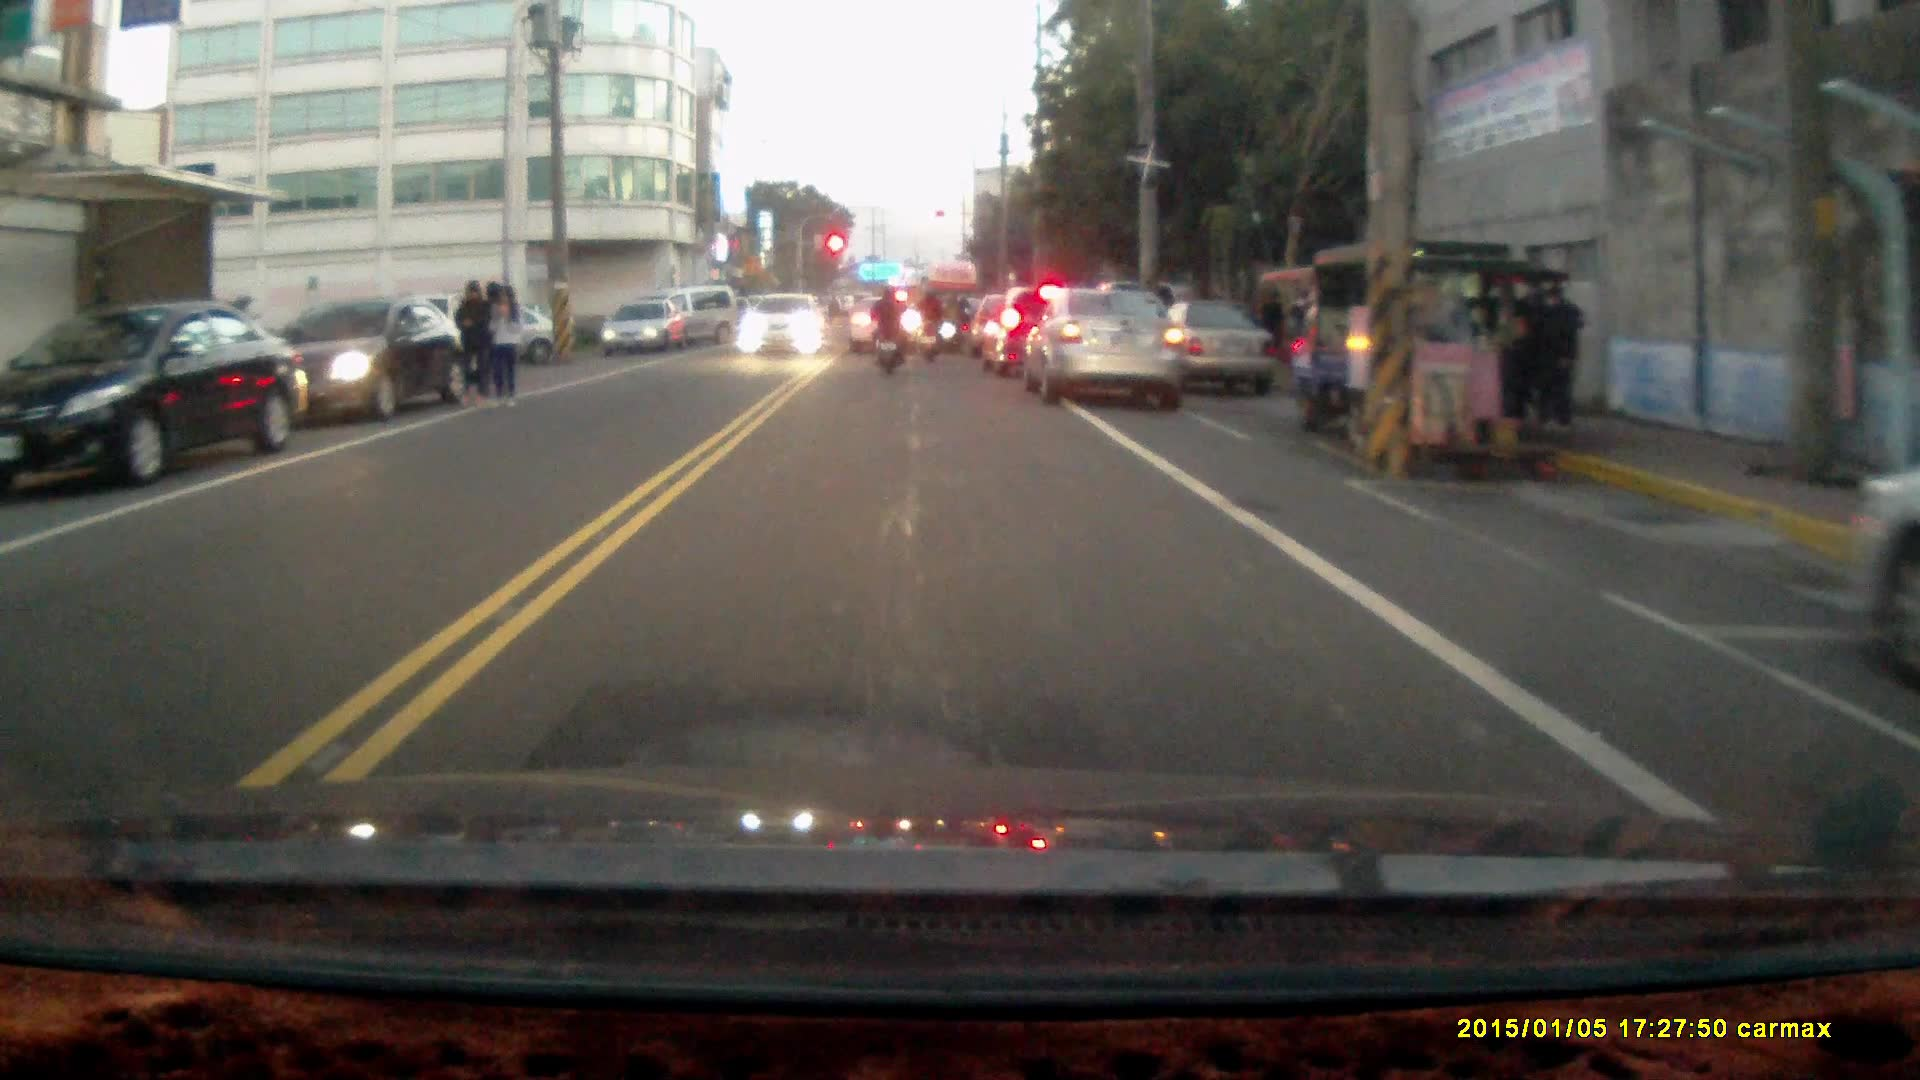pedestrian: (1531, 277, 1586, 429), (451, 278, 491, 413), (486, 284, 521, 411), (1253, 285, 1287, 358)
rider: (867, 281, 906, 373), (911, 283, 946, 364)
vehicle: (1283, 238, 1567, 457), (0, 295, 306, 496), (272, 297, 467, 432), (1027, 279, 1189, 401), (739, 292, 827, 354), (849, 295, 928, 356), (604, 302, 688, 358)
